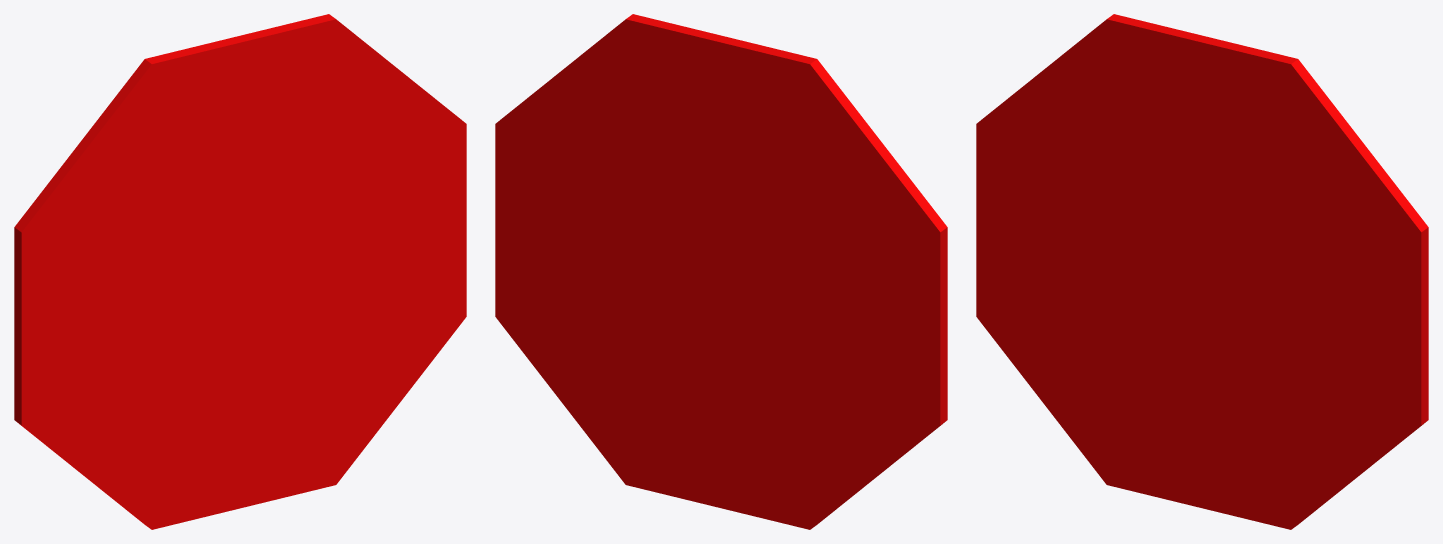
The model's file is Proto_Sign_Stop_Octagon_01.fbx.
3 views of the same model, side by side, from view 1: azimuth 30°, elevation 25°; view 2: azimuth 150°, elevation 25°; view 3: azimuth 330°, elevation 25° (orthographic).
Parts seen in each view (by area): view 1: Proto_Sign_Stop_Octagon_01; view 2: Proto_Sign_Stop_Octagon_01; view 3: Proto_Sign_Stop_Octagon_01.
Boxes of the visible parts, <box> form: Proto_Sign_Stop_Octagon_01: <box>14,14,466,529</box>; Proto_Sign_Stop_Octagon_01: <box>495,14,947,529</box>; Proto_Sign_Stop_Octagon_01: <box>976,14,1428,529</box>.
Bounding box in the file's own units: 0.5 × 0.5 × 0.014.
